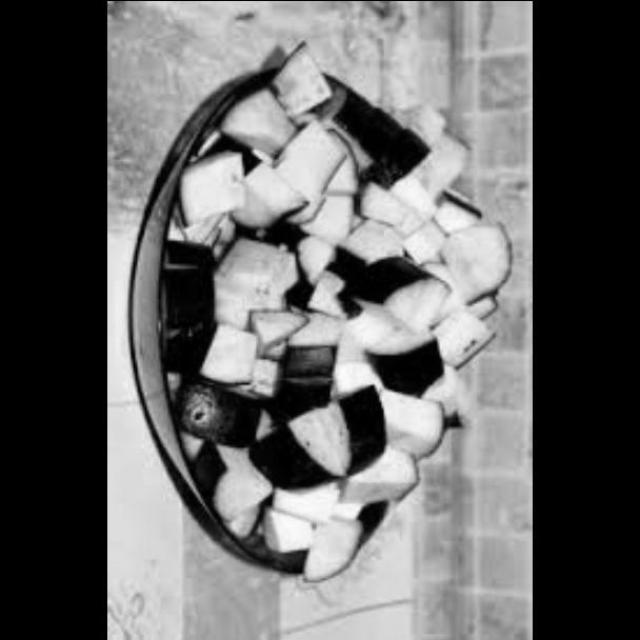eggplant: (148, 45, 517, 582)
